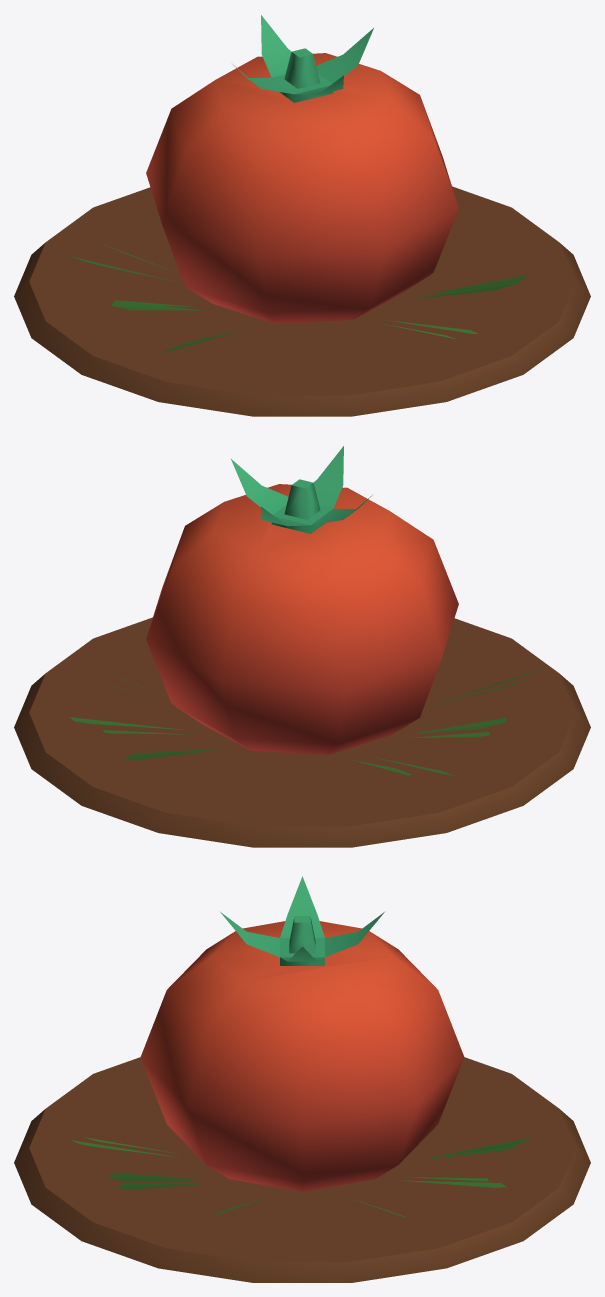
Rendered from tomato.glb.
3 renders of one model, top to bottom at view 1: azimuth 30°, elevation 25°; view 2: azimuth 150°, elevation 25°; view 3: azimuth 270°, elevation 25°, orthographic.
Visible parts, largest first — view 1: crop-tomato-giant, crop-tomato-giant-2; view 2: crop-tomato-giant, crop-tomato-giant-2; view 3: crop-tomato-giant, crop-tomato-giant-2.
Boxes of the visible parts, box(x1,y1,x2,y2) form: crop-tomato-giant: box(14, 15, 590, 416); crop-tomato-giant-2: box(70, 256, 522, 349); crop-tomato-giant: box(14, 446, 590, 847); crop-tomato-giant-2: box(103, 679, 529, 775); crop-tomato-giant: box(14, 876, 590, 1282); crop-tomato-giant-2: box(85, 1137, 520, 1182).
Size of the model in its own units: 5.61 by 2.86 by 5.7.
